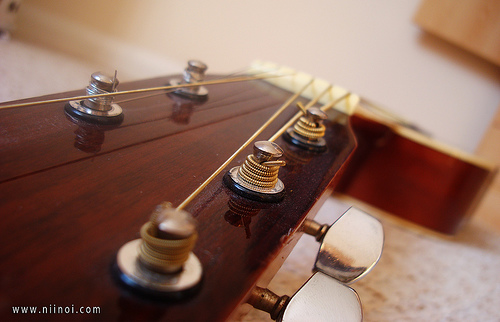guitar: (1, 55, 500, 322)
